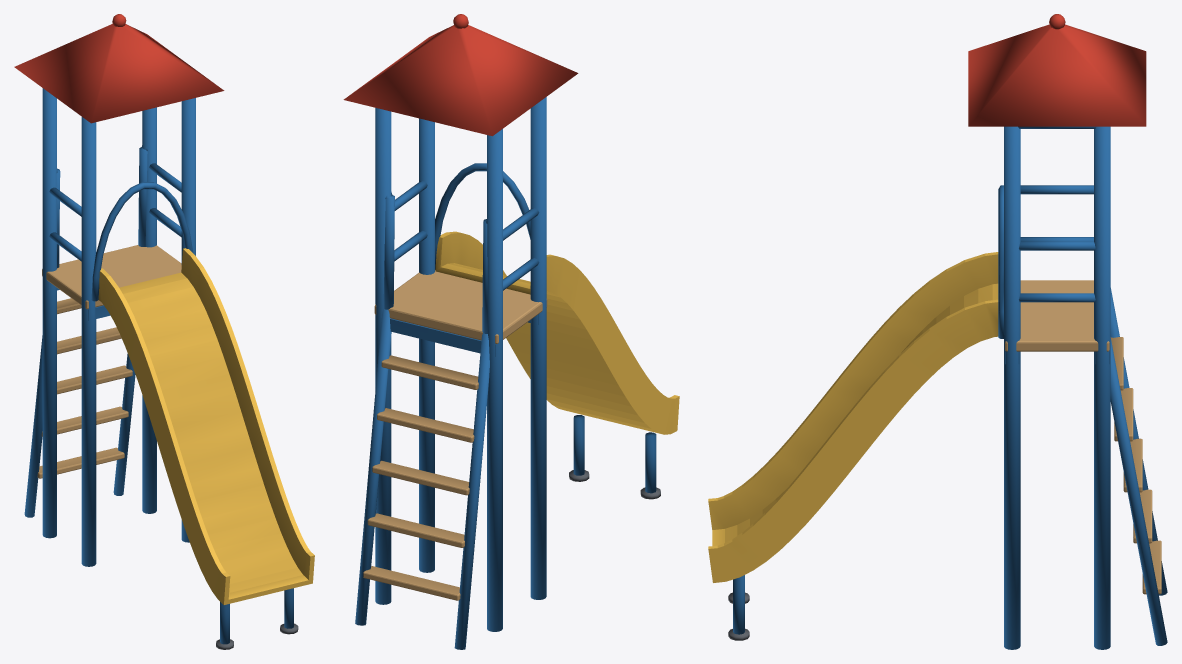
File: slide.glb
The picture shows the model from 3 angles, left to right: view 1: azimuth 30°, elevation 25°; view 2: azimuth 150°, elevation 25°; view 3: azimuth 270°, elevation 25°; orthographic projection. The views are drawn at different scales.
Visible parts, largest first — view 1: slide; view 2: slide; view 3: slide.
Boxes of the visible parts, x1,y1,x2,y2 form: slide: (14,14,314,649); slide: (343,14,679,649); slide: (708,14,1167,649).
Size of the model in its own units: 0.7495 by 2.81 by 1.93.
